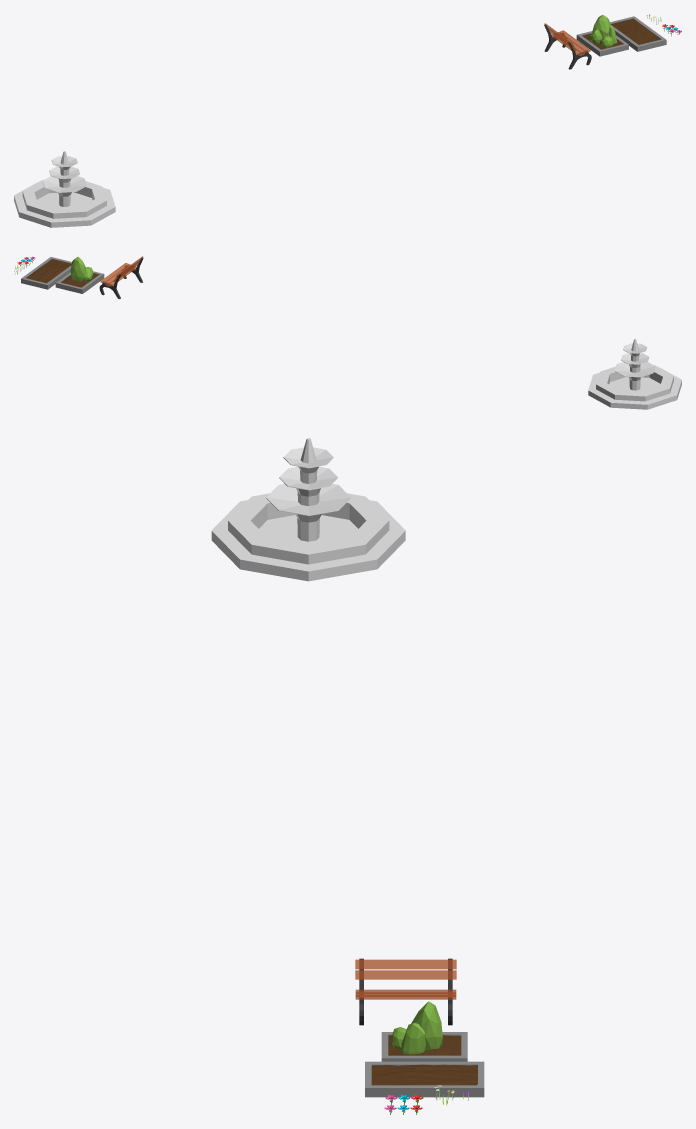
The model's file is more_props.fbx.
The picture shows the model from 3 angles, top to bottom: view 1: azimuth 30°, elevation 25°; view 2: azimuth 150°, elevation 25°; view 3: azimuth 270°, elevation 25°; orthographic projection. The views are drawn at different scales.
Visible parts, largest first — view 1: Cylinder, Cube.014, Bush2.002, Cube.017; view 2: Cylinder, Cube.014, Bush2.002, Cube.017; view 3: Cylinder, Cube.014, Cube.017, Bush2.002.
Part boxes in pixels (x1=…): Cylinder: x1=14, y1=151, x2=115, y2=227; Cube.014: x1=610, y1=16, x2=666, y2=51; Bush2.002: x1=576, y1=14, x2=628, y2=56; Cube.017: x1=544, y1=23, x2=591, y2=69; Cylinder: x1=588, y1=338, x2=681, y2=409; Cube.014: x1=21, y1=257, x2=71, y2=289; Bush2.002: x1=55, y1=257, x2=104, y2=293; Cube.017: x1=99, y1=256, x2=143, y2=298; Cylinder: x1=211, y1=438, x2=405, y2=581; Cube.014: x1=365, y1=1061, x2=484, y2=1097; Cube.017: x1=355, y1=958, x2=456, y2=1025; Bush2.002: x1=381, y1=1001, x2=467, y2=1061.
Size of the model in its own units: 2814 by 226 by 526.
